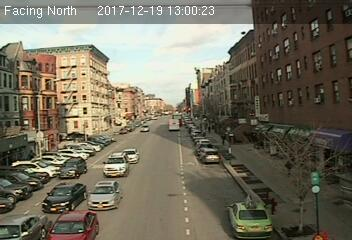car: (225, 195, 275, 239), (41, 182, 87, 213), (87, 179, 123, 211), (58, 156, 88, 179), (102, 153, 128, 176), (200, 148, 221, 164), (118, 149, 141, 163)
truck: (168, 118, 180, 131)
